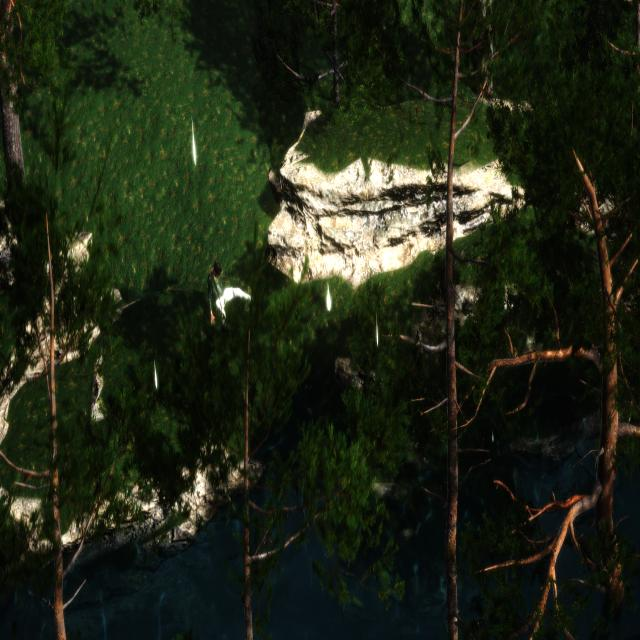Human: (204, 253, 259, 333)
